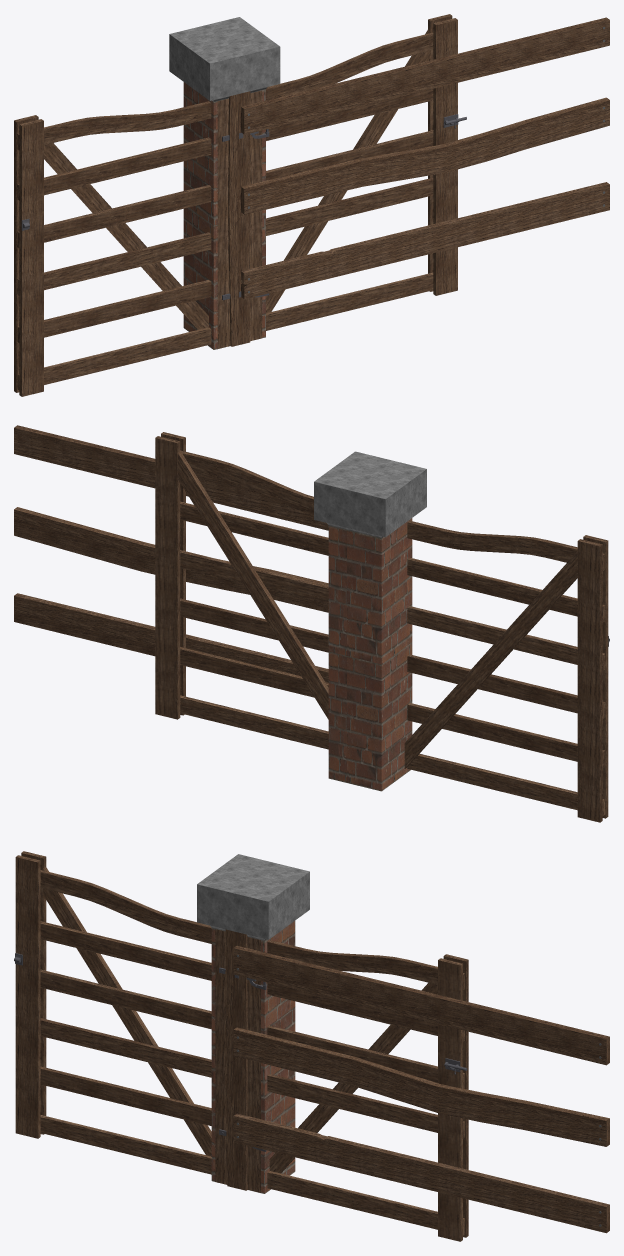
Rendered from PorteiraCercas.fbx.
The picture shows the model from 3 angles, top to bottom: view 1: azimuth 30°, elevation 25°; view 2: azimuth 150°, elevation 25°; view 3: azimuth 330°, elevation 25°; orthographic projection. The views are drawn at different scales.
Visible parts, largest first — view 1: Estrutura (×2), PorteiraColuna, TabuaCerca02, TabuaCerca01, TabuaCerca03, CercaColuna3; view 2: Estrutura (×2), PorteiraColuna, TabuaCerca01, TabuaCerca03, TabuaCerca02; view 3: Estrutura (×2), PorteiraColuna, TabuaCerca02, TabuaCerca01, TabuaCerca03, CercaColuna3, CercaColuna2.
Part boxes in pixels (x1,y1,x2,y2): Estrutura (×2): (14, 14, 459, 396); PorteiraColuna: (169, 17, 280, 349); TabuaCerca02: (241, 97, 609, 214); TabuaCerca01: (241, 17, 609, 134); TabuaCerca03: (241, 182, 609, 299); CercaColuna3: (228, 91, 250, 346); Estrutura (×2): (155, 432, 609, 822); PorteiraColuna: (314, 451, 426, 791); TabuaCerca01: (14, 425, 328, 530); TabuaCerca03: (14, 593, 328, 682); TabuaCerca02: (14, 507, 328, 612); Estrutura (×2): (14, 851, 468, 1241); PorteiraColuna: (197, 854, 309, 1193); TabuaCerca02: (233, 1027, 609, 1146); TabuaCerca01: (233, 945, 609, 1065); TabuaCerca03: (233, 1113, 609, 1233); CercaColuna3: (225, 929, 247, 1190); CercaColuna2: (244, 934, 247, 1183).
Bounding box in the file's own units: 405 × 194 × 49.61.
Materials: 5 (4 with a texture image).
